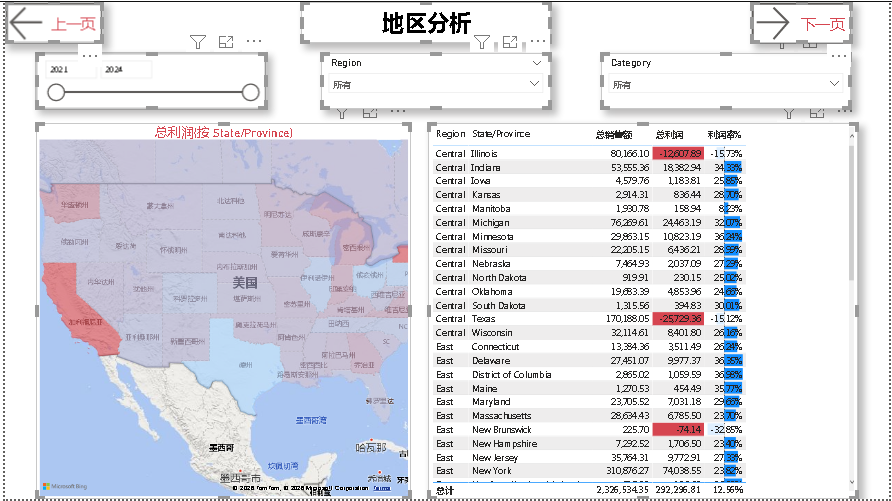

This screenshot's page, from the dashboard's own definition file:
{"tool":"powerbi","page":{"name":"第 2页","canvas":[1280,720],"ordinal":1},"visuals":[{"type":"textbox","box":[429.5,0,362.1,58.9],"z":0},{"type":"filledMap","fields":{"Category":["Orders.State/Province"]},"box":[44.2,174.6,543.8,546],"z":1000},{"type":"tableEx","fields":{"Values":["Orders.Region","Orders.State/Province","Orders.总销售额","Orders.总利润","Orders.利润率%"]},"box":[612.4,174.6,623.4,546],"z":2000},{"type":"slicer","fields":{"Values":["日期表.年份"]},"box":[45.5,74.1,333.5,80.8],"z":3000},{"type":"slicer","fields":{"Values":["Orders.Region"]},"box":[458.1,74.1,333.5,80.8],"z":4000},{"type":"slicer","fields":{"Values":["Orders.Category"]},"box":[864,74.1,362.1,80.8],"z":5000},{"type":"actionButton","box":[0,0,141.5,59.7],"z":6000},{"type":"actionButton","box":[1081,0,145.9,59.7],"z":7000}]}

Visuals, with their boxes on the page's 1280x720 design canvas (x1, y1, x2, y2). These are canvas units, not pixel positions in the 892x501 screenshot, which may show the page scaled, cropped or inside an application window:
textbox: (430, 0, 792, 59)
filledMap - Orders.State/Province: (44, 175, 588, 721)
tableEx - Orders.Region x Orders.State/Province: (612, 175, 1236, 721)
slicer - 日期表.年份: (46, 74, 379, 155)
slicer - Orders.Region: (458, 74, 792, 155)
slicer - Orders.Category: (864, 74, 1226, 155)
actionButton: (0, 0, 142, 60)
actionButton: (1081, 0, 1227, 60)
